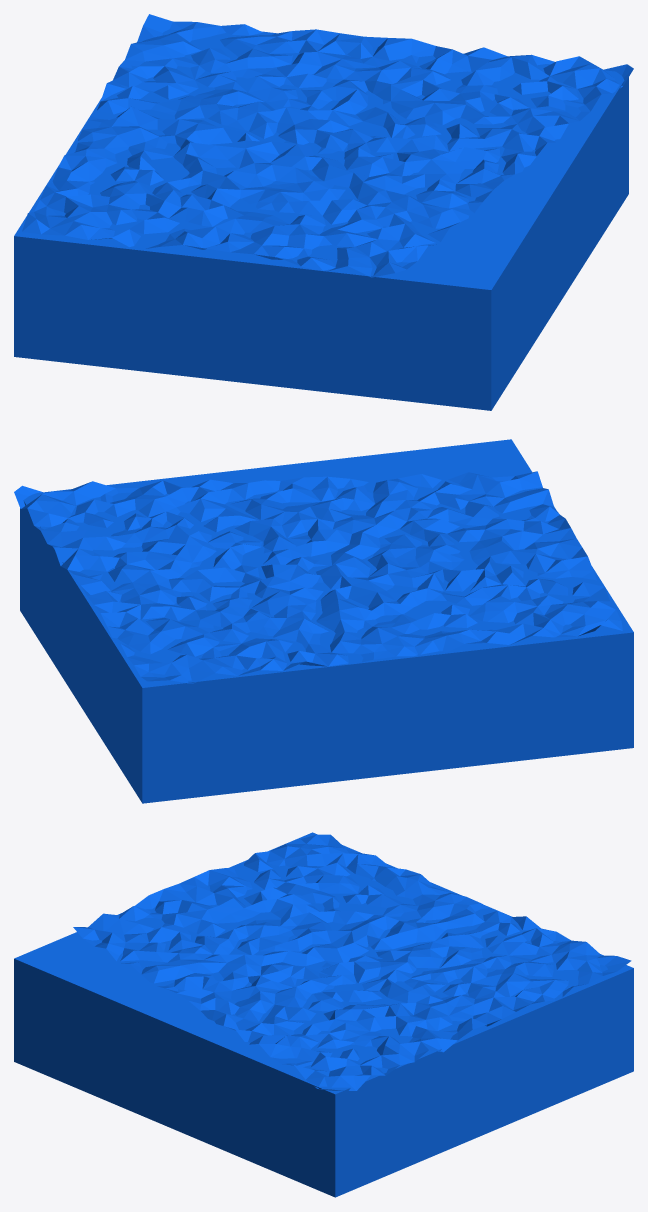
The model's file is water2.FBX.
3 renders of one model, top to bottom at view 1: azimuth 30°, elevation 25°; view 2: azimuth 150°, elevation 25°; view 3: azimuth 270°, elevation 25°, orthographic. The views are drawn at different scales.
Parts seen in each view (by area): view 1: Box001, Line001; view 2: Box001, Line001; view 3: Box001, Line001.
Boxes of the visible parts, left/top/right/bottom form: Box001: left=14, top=29, right=628, bottom=410; Line001: left=22, top=14, right=633, bottom=277; Box001: left=20, top=439, right=633, bottom=803; Line001: left=14, top=471, right=622, bottom=683; Box001: left=14, top=832, right=633, bottom=1197; Line001: left=73, top=834, right=631, bottom=1090.
Size of the model in its own units: 430 by 84.84 by 429.
